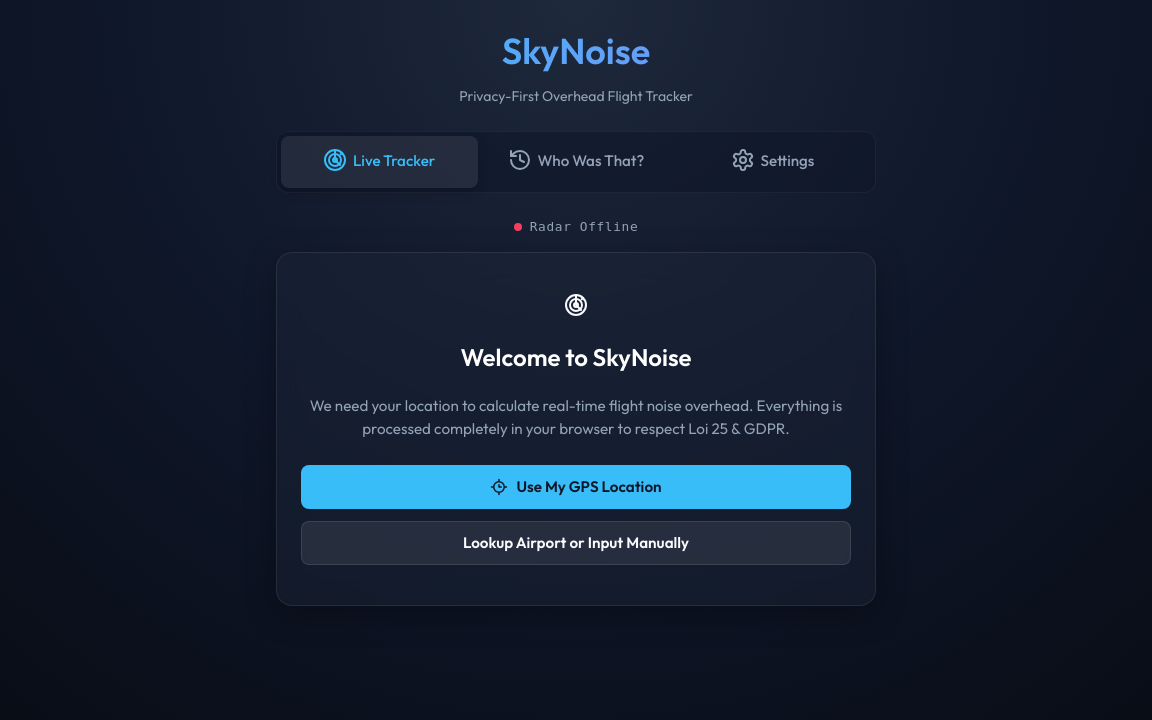
App › shows the empty state when the history log is empty
Click the tab "Who Was That?": (576, 162) x1=478 y1=136 x2=674 y2=188
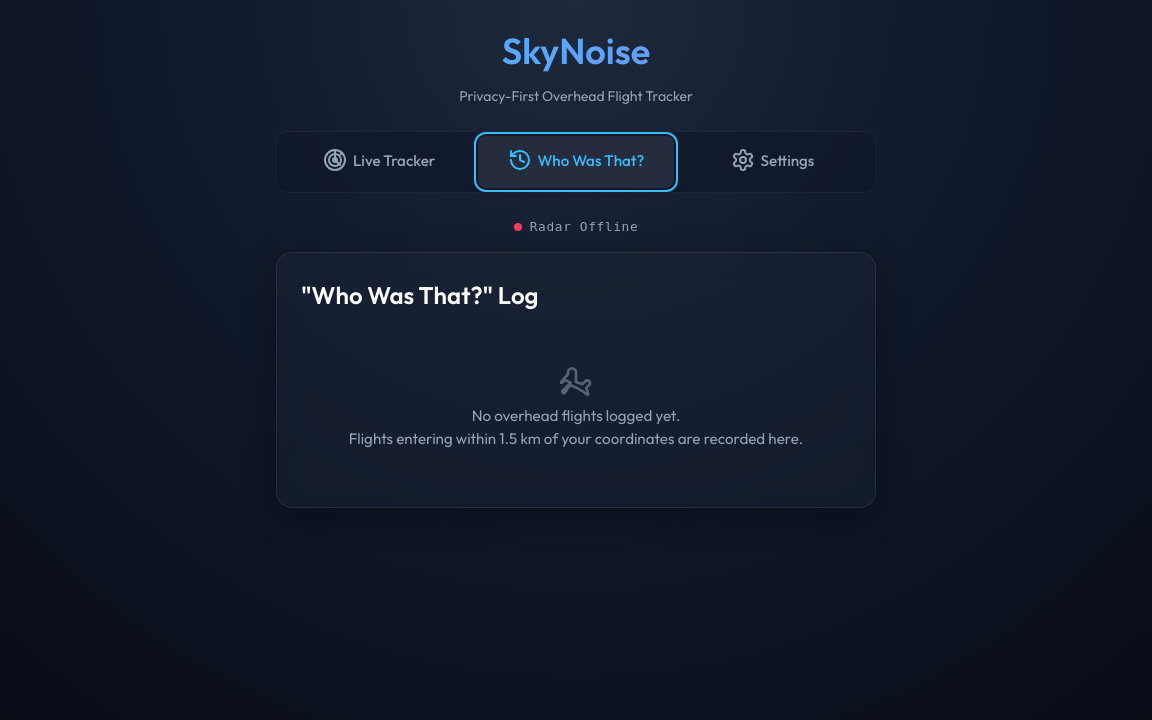
Check: the text "No overhead flights logged yet" is shown, box x1=472 y1=406 x2=680 y2=425
